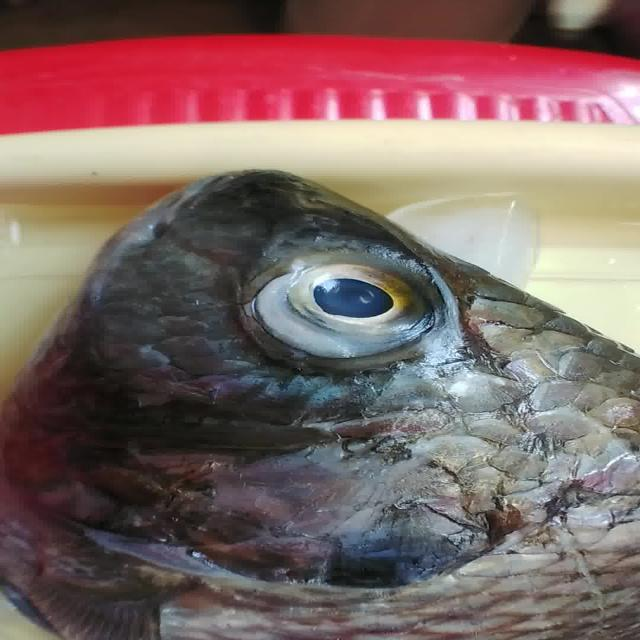Fresh: (249, 234, 480, 366)
